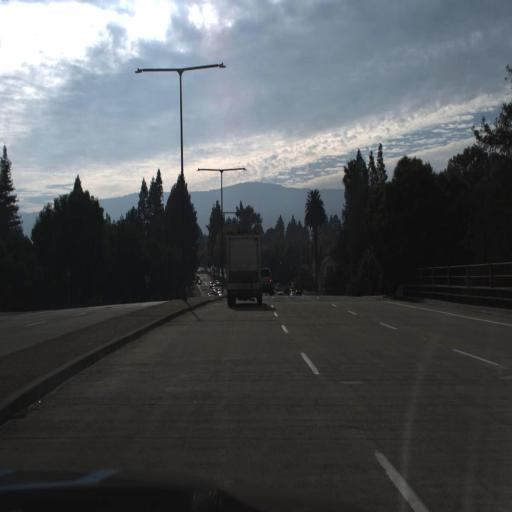car: (259, 266, 275, 296)
truck: (226, 231, 264, 308)
